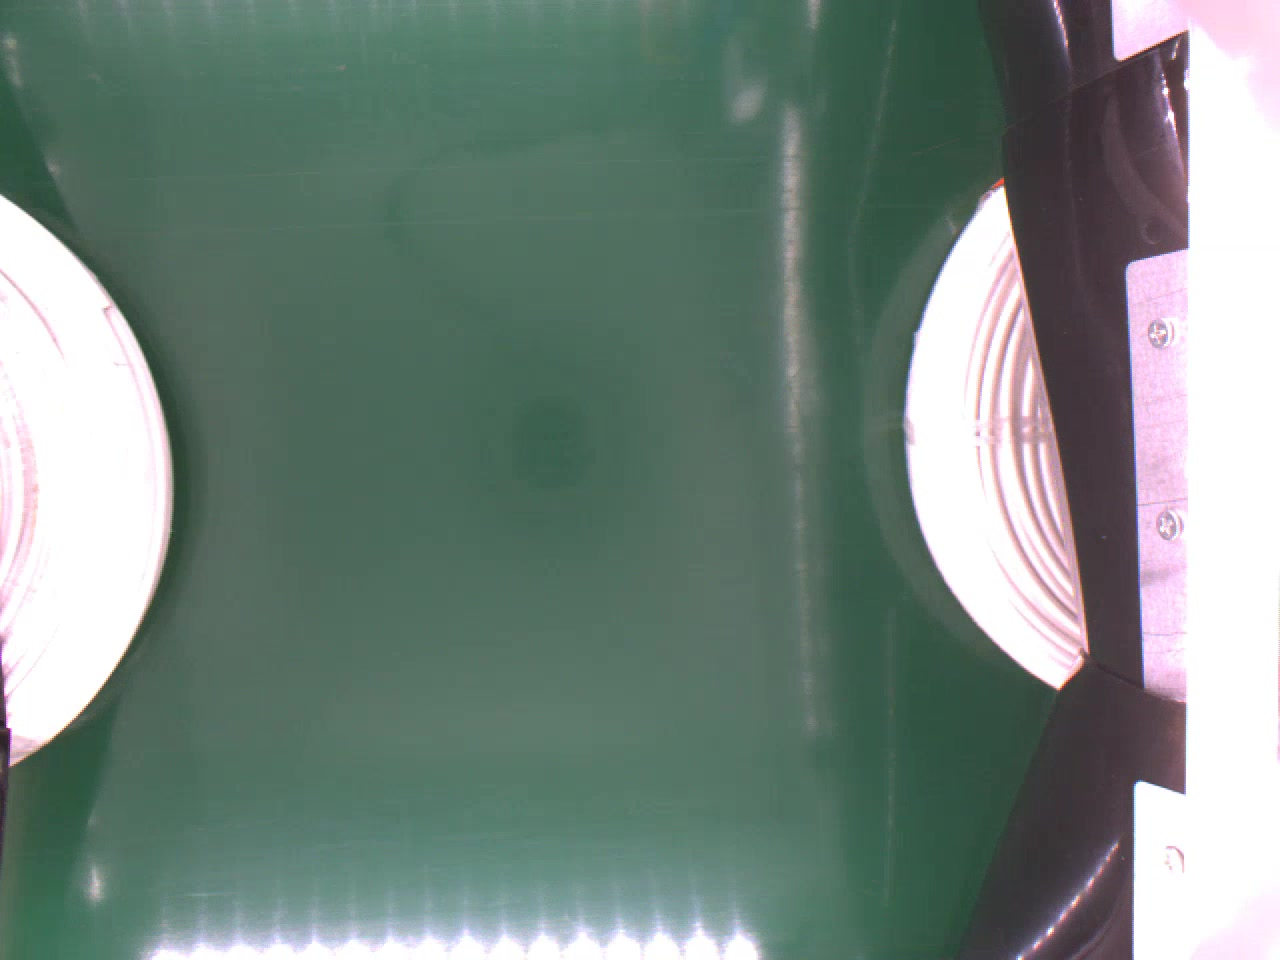white: (0, 188, 180, 768), (899, 173, 1087, 690)
